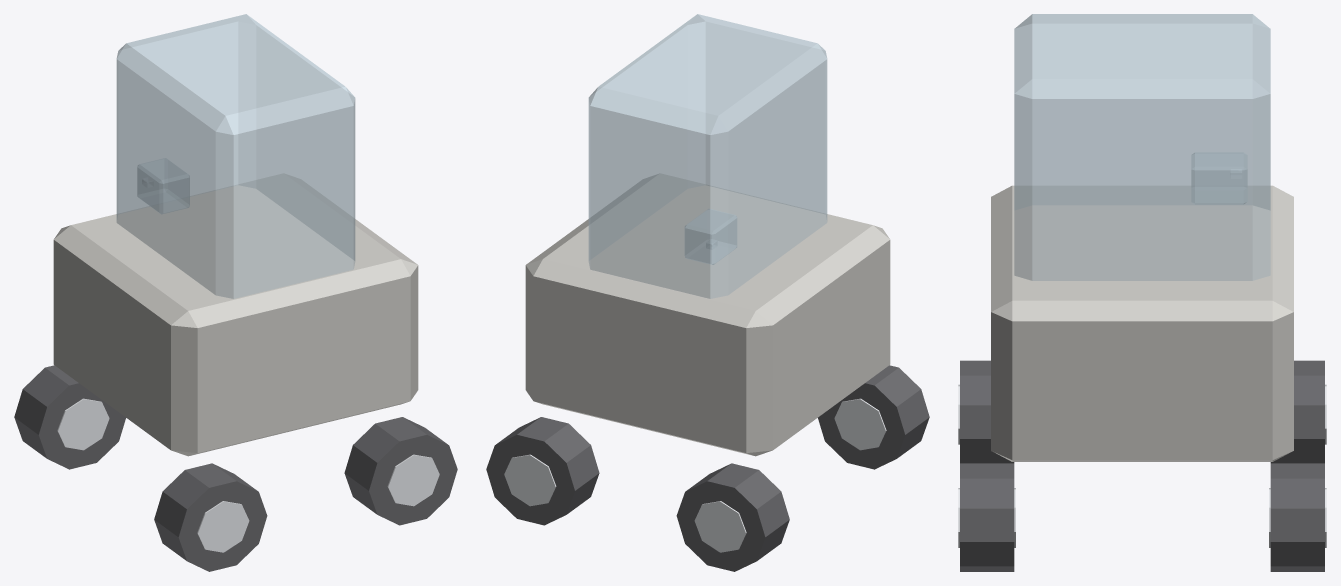
Rendered from b07_tilting_drum_concrete_mixer.glb.
3 renders of one model, left to right at view 1: azimuth 30°, elevation 25°; view 2: azimuth 150°, elevation 25°; view 3: azimuth 270°, elevation 25°, orthographic. The views are drawn at different scales.
Parts seen in each view (by area): view 1: b07_tilting_drum_concrete_mixer; view 2: b07_tilting_drum_concrete_mixer; view 3: b07_tilting_drum_concrete_mixer.
Part boxes in pixels (x1,y1,x2,y2): b07_tilting_drum_concrete_mixer: [14, 14, 457, 571]; b07_tilting_drum_concrete_mixer: [486, 14, 929, 571]; b07_tilting_drum_concrete_mixer: [958, 14, 1326, 571].
Bounding box in the file's own units: 1.39 × 2 × 1.43.
